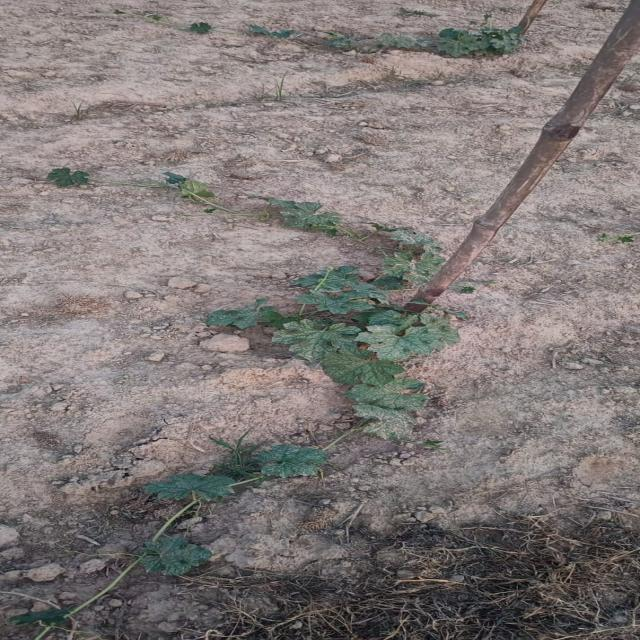plant: (45, 166, 463, 601)
